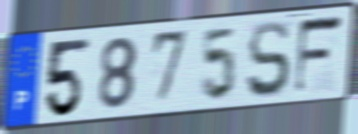5: (41, 35, 94, 119), (197, 24, 239, 103)
7: (149, 27, 193, 109)
8: (96, 34, 139, 112)
F: (291, 12, 347, 99)
S: (244, 18, 292, 101)
